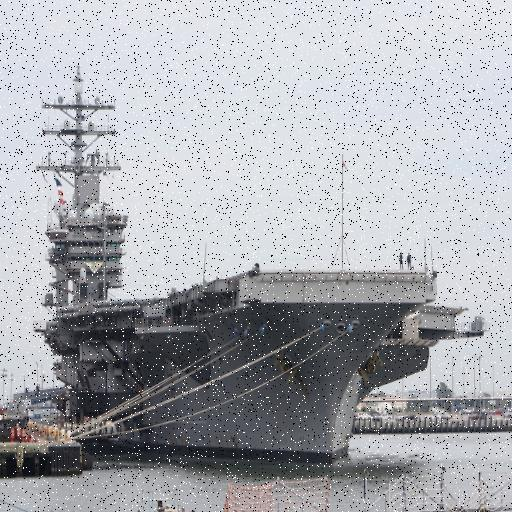Portanaves: (29, 61, 492, 471)
